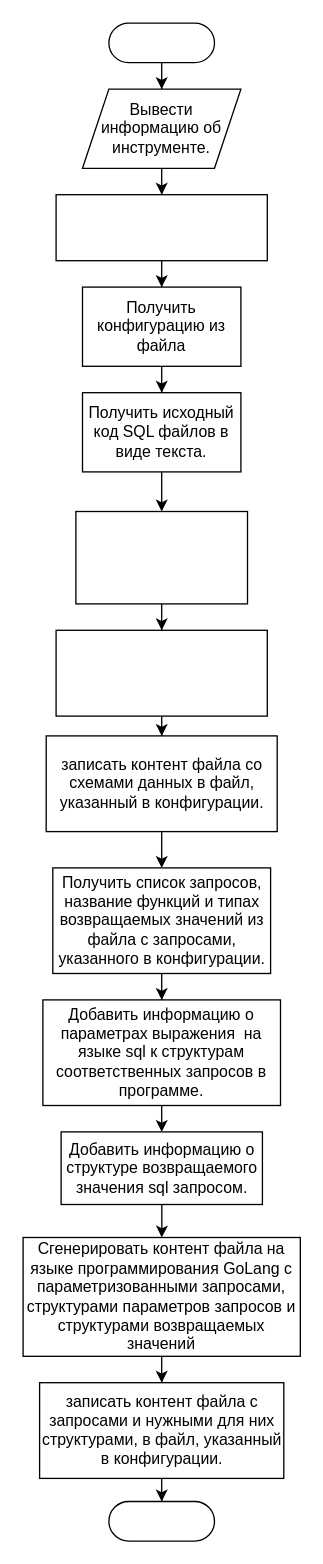
This 323x1564 diagram has some shape labels left out. The centre of each missing label's shape, as x and y in pixels:
"end" goes at (161,1520).
"start" goes at (161,42).
"Получить информацию о схеме данных в ответствии с выражениями Create Table" goes at (161,557).
"Получить путь до конфигурационного файла из параметров запуска." goes at (161,227).
"Сгенерировать контент файла на языке программирования GoLang со схемами данных" goes at (161,672).
